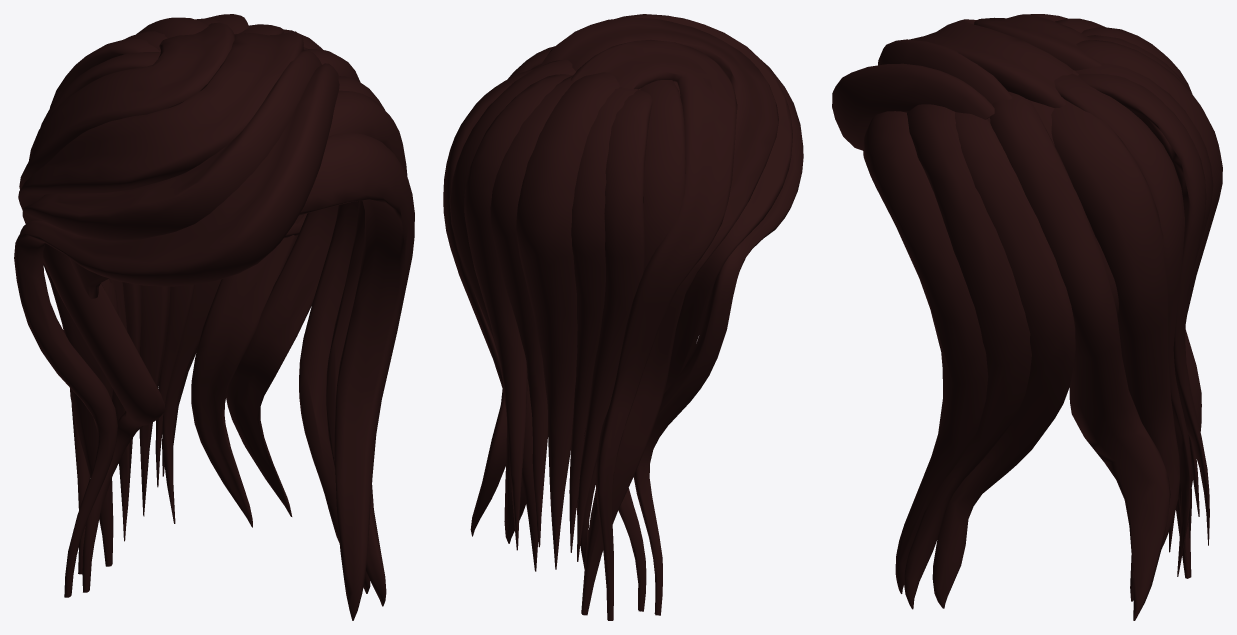
Rendered from hair-4-db42930a.glb.
The picture shows the model from 3 angles, left to right: view 1: azimuth 30°, elevation 25°; view 2: azimuth 150°, elevation 25°; view 3: azimuth 270°, elevation 25°; orthographic projection. The views are drawn at different scales.
Visible parts, largest first — view 1: hair_4.001; view 2: hair_4.001; view 3: hair_4.001.
Part boxes in pixels (<box>): hair_4.001: <box>14,14,414,620</box>; hair_4.001: <box>443,14,803,620</box>; hair_4.001: <box>832,14,1222,620</box>.
Size of the model in its own units: 2.02 by 3.35 by 2.12.
